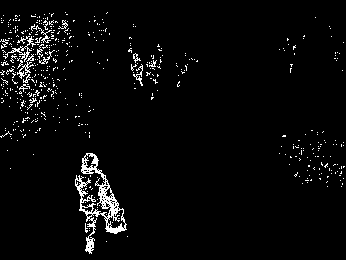person: (73, 151, 129, 254)
